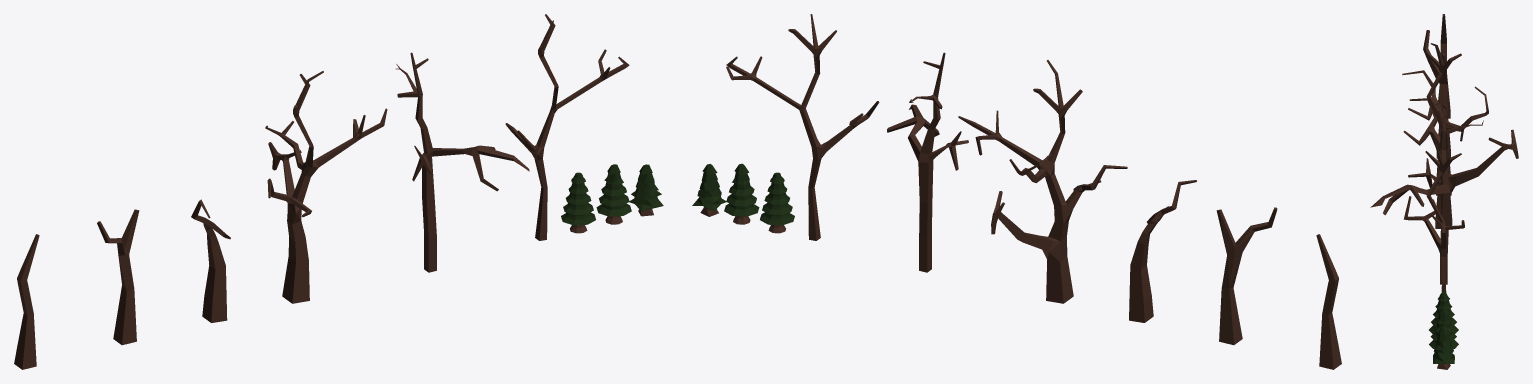
File: TreesCollection.fbx
3 views of the same model, side by side, from view 1: azimuth 30°, elevation 25°; view 2: azimuth 150°, elevation 25°; view 3: azimuth 270°, elevation 25° (orthographic). The views are drawn at different scales.
Visible parts, largest first — view 1: Tree_Large_v3, Tree_Large_v2, Tree_Large_v1, Tree_Small_v2, Tree_Small_v1, Tree_Small_v3, Elochka_v1, Elochka_v2, Elochka_v3; view 2: Tree_Large_v3, Tree_Large_v2, Tree_Large_v1, Tree_Small_v2, Tree_Small_v1, Tree_Small_v3, Elochka_v1, Elochka_v2, Elochka_v3; view 3: Tree_Large_v3, Tree_Large_v2, Tree_Large_v1, Elochka_v3, Tree_Small_v2, Elochka_v2, Tree_Small_v1, Elochka_v1, Tree_Small_v3.
Boxes of the visible parts, x1,y1,x2,y2 form: Tree_Large_v3: (265, 71, 387, 303); Tree_Large_v2: (396, 52, 529, 272); Tree_Large_v1: (505, 14, 629, 240); Tree_Small_v2: (97, 209, 139, 345); Tree_Small_v1: (191, 199, 230, 322); Tree_Small_v3: (14, 234, 39, 369); Elochka_v1: (561, 172, 595, 233); Elochka_v2: (596, 164, 631, 224); Elochka_v3: (629, 164, 663, 216); Tree_Large_v3: (958, 60, 1127, 303); Tree_Large_v2: (887, 52, 968, 272); Tree_Large_v1: (726, 14, 879, 240); Tree_Small_v2: (1216, 207, 1277, 345); Tree_Small_v1: (1129, 180, 1196, 322); Tree_Small_v3: (1316, 234, 1341, 369); Elochka_v1: (760, 172, 794, 233); Elochka_v2: (724, 163, 759, 224); Elochka_v3: (692, 164, 726, 216); Tree_Large_v3: (1403, 43, 1518, 228); Tree_Large_v2: (1370, 91, 1483, 284); Tree_Large_v1: (1403, 145, 1464, 292); Elochka_v3: (1433, 326, 1454, 369); Tree_Small_v2: (1423, 30, 1450, 158); Elochka_v2: (1429, 307, 1458, 349); Tree_Small_v1: (1402, 70, 1451, 195); Elochka_v1: (1429, 292, 1458, 333); Tree_Small_v3: (1438, 14, 1450, 118).
Bounding box in the file's own units: 10228 × 2472 × 3546.
